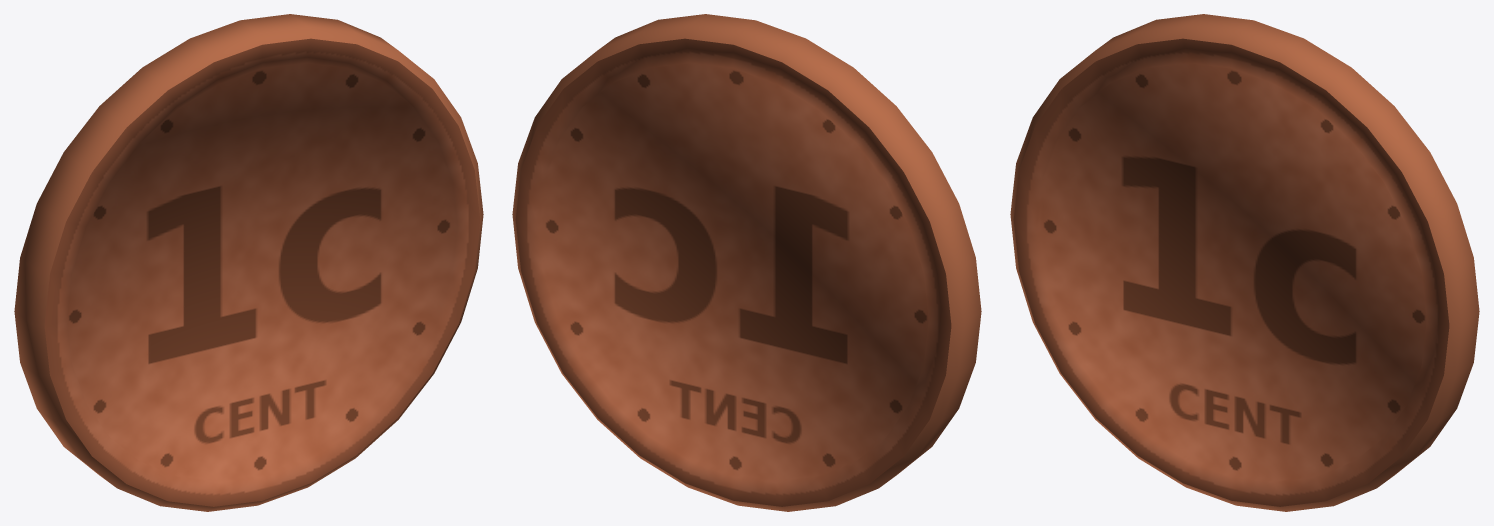
File: Coin_1Cent.obj
3 views of the same model, side by side, from view 1: azimuth 30°, elevation 25°; view 2: azimuth 150°, elevation 25°; view 3: azimuth 330°, elevation 25° (orthographic).
Bounding box in the file's own units: 0.0162 × 0.0162 × 0.00167.
Materials: 2 (1 with a texture image).
